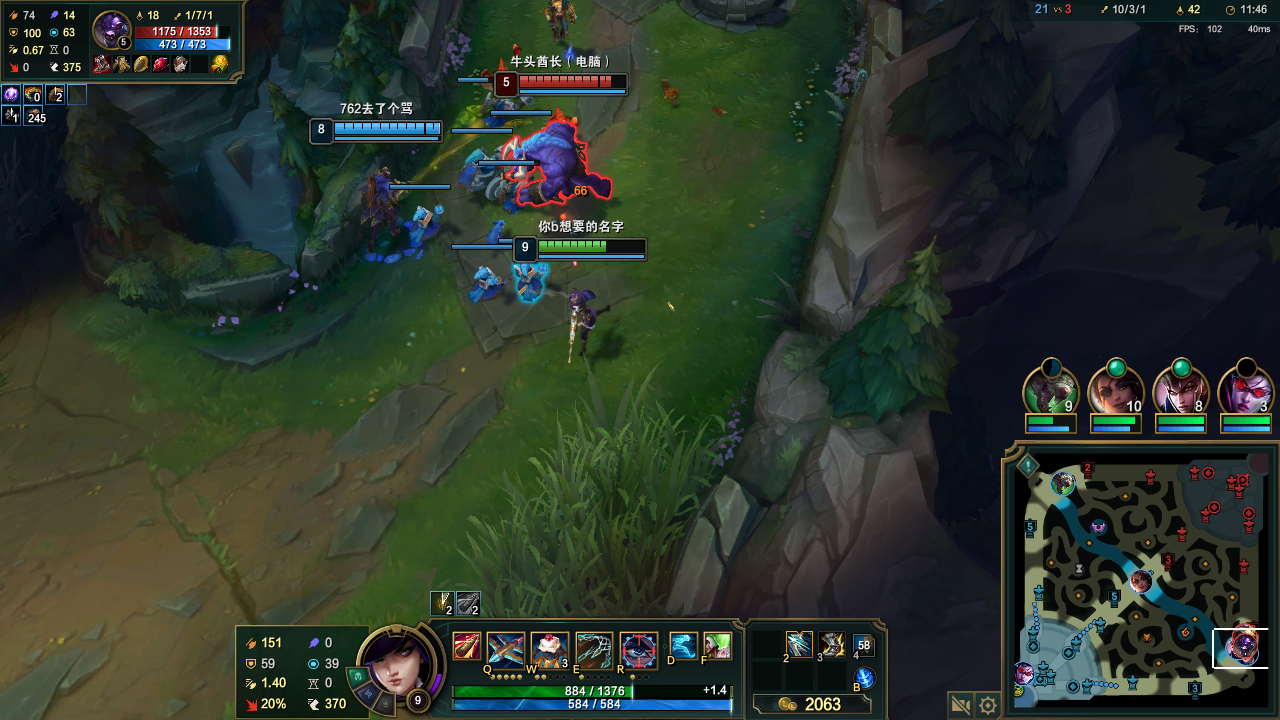DFYX: (517, 78, 624, 90)
KF: (788, 631, 810, 649)
WFXB: (465, 152, 500, 195), (497, 169, 525, 213), (476, 92, 516, 122), (468, 266, 502, 299), (516, 266, 542, 301), (416, 206, 443, 235)
